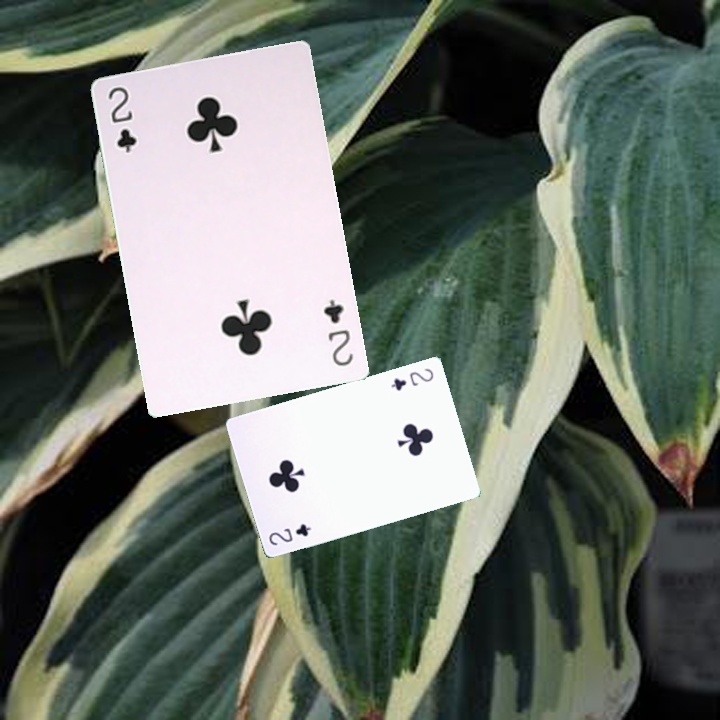2c: (319, 295, 356, 369), (104, 82, 139, 156), (387, 364, 436, 393), (265, 519, 314, 548)
